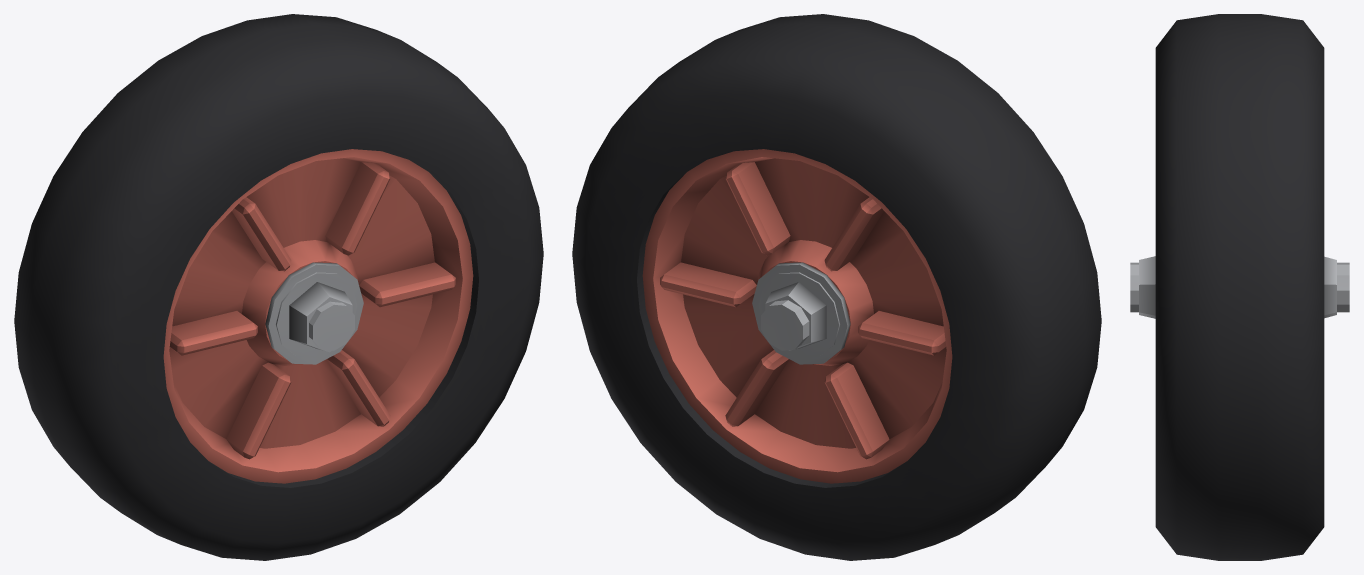
File: rim_cart.glb
3 renders of one model, left to right at view 1: azimuth 30°, elevation 25°; view 2: azimuth 150°, elevation 25°; view 3: azimuth 270°, elevation 25°, orthographic.
Visible parts, largest first — view 1: PART; view 2: PART; view 3: PART.
Part boxes in pixels (box(x1,y1,x2,y2)): PART: box(14, 14, 543, 560); PART: box(572, 14, 1101, 560); PART: box(1130, 14, 1349, 560).
Size of the model in its own units: 0.13 by 0.13 by 0.052.
